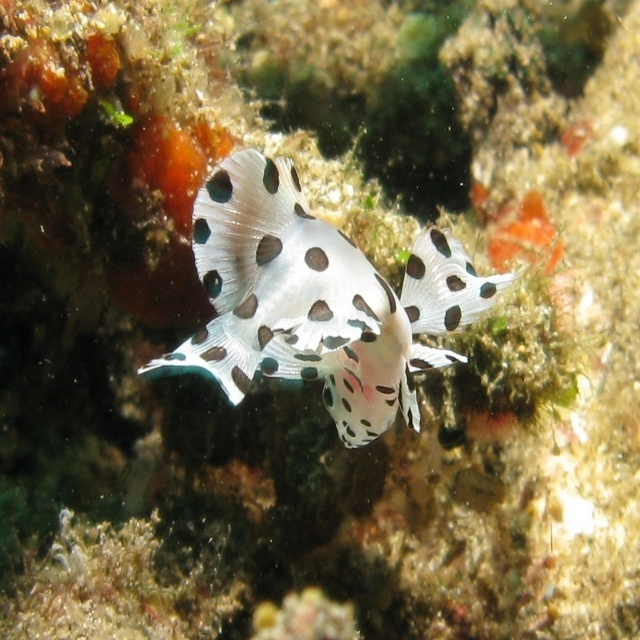Fish: (137, 148, 517, 449)
